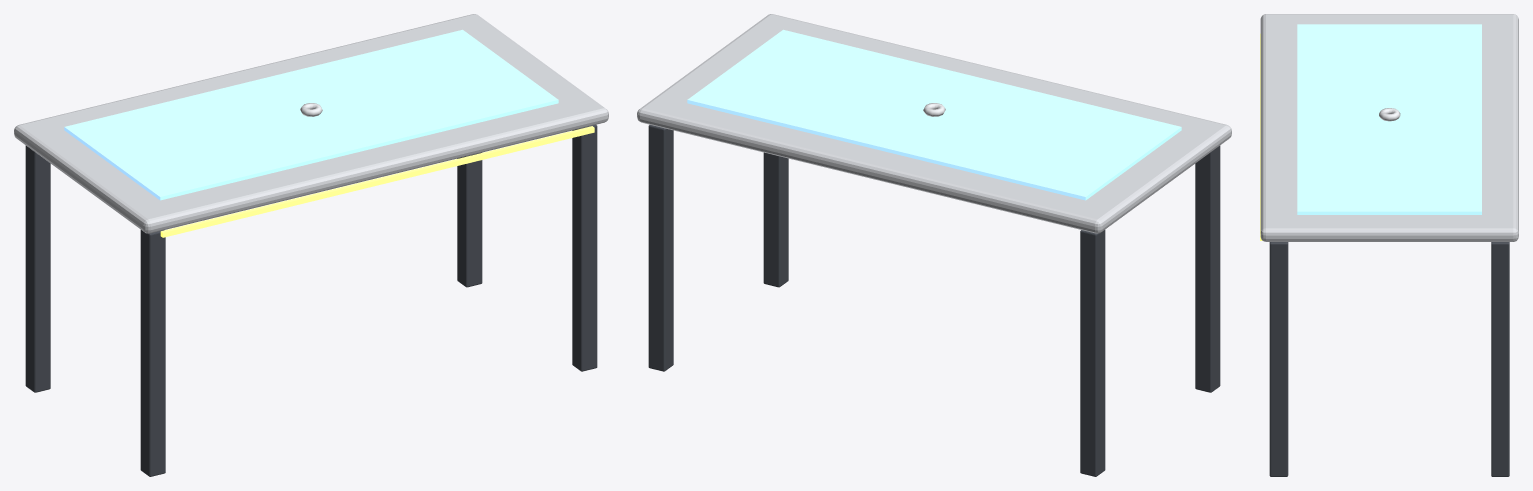
File: desk_drafting.glb
3 renders of one model, left to right at view 1: azimuth 30°, elevation 25°; view 2: azimuth 150°, elevation 25°; view 3: azimuth 270°, elevation 25°, orthographic. The views are drawn at different scales.
Parts seen in each view (by area): view 1: GD_desk_drafting__m2, GD_desk_drafting__m1, GD_desk_drafting__m0, GD_desk_drafting__m4; view 2: GD_desk_drafting__m2, GD_desk_drafting__m1, GD_desk_drafting__m0; view 3: GD_desk_drafting__m2, GD_desk_drafting__m1, GD_desk_drafting__m0.
Boxes of the visible parts, x1=… form: GD_desk_drafting__m2: x1=64, y1=29, x2=558, y2=200; GD_desk_drafting__m1: x1=14, y1=14, x2=608, y2=233; GD_desk_drafting__m0: x1=25, y1=125, x2=597, y2=476; GD_desk_drafting__m4: x1=160, y1=126, x2=594, y2=237; GD_desk_drafting__m2: x1=687, y1=29, x2=1181, y2=200; GD_desk_drafting__m1: x1=637, y1=14, x2=1231, y2=233; GD_desk_drafting__m0: x1=648, y1=125, x2=1220, y2=476; GD_desk_drafting__m2: x1=1297, y1=24, x2=1481, y2=214; GD_desk_drafting__m1: x1=1260, y1=14, x2=1518, y2=241; GD_desk_drafting__m0: x1=1269, y1=242, x2=1509, y2=476.
Size of the model in its own units: 1.4 by 0.7787 by 0.701.
